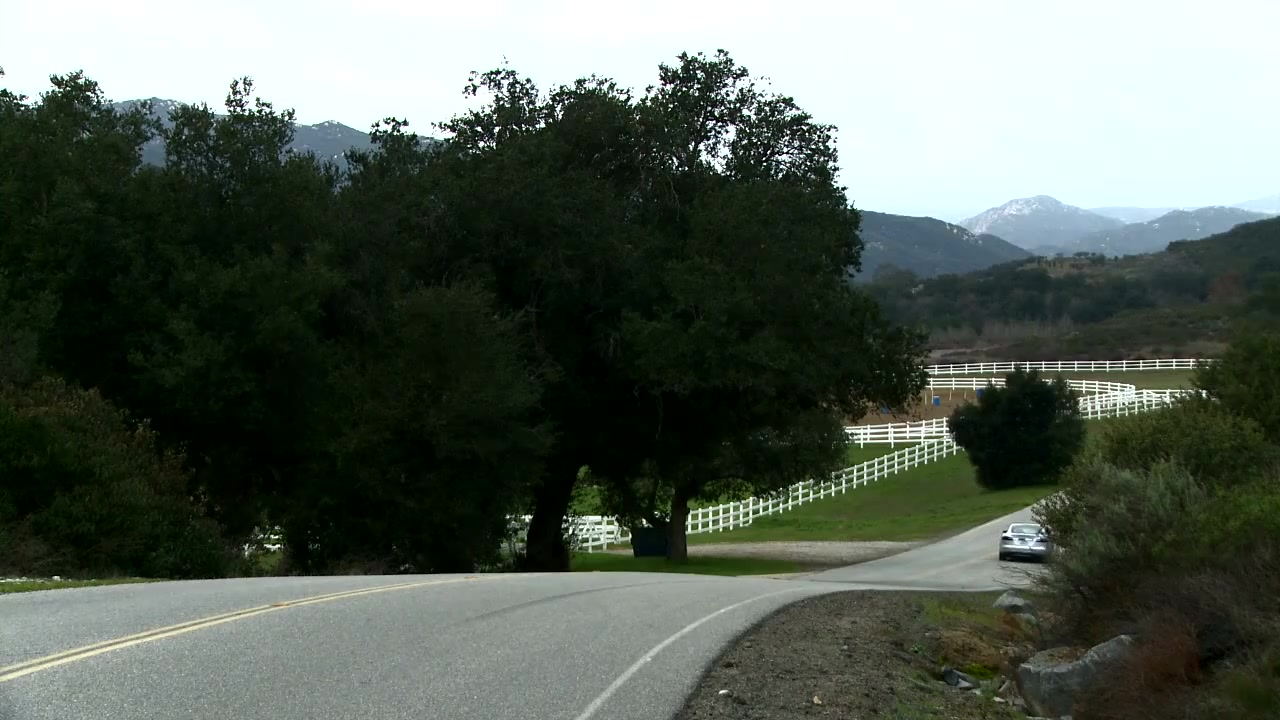car: (997, 521, 1057, 565)
